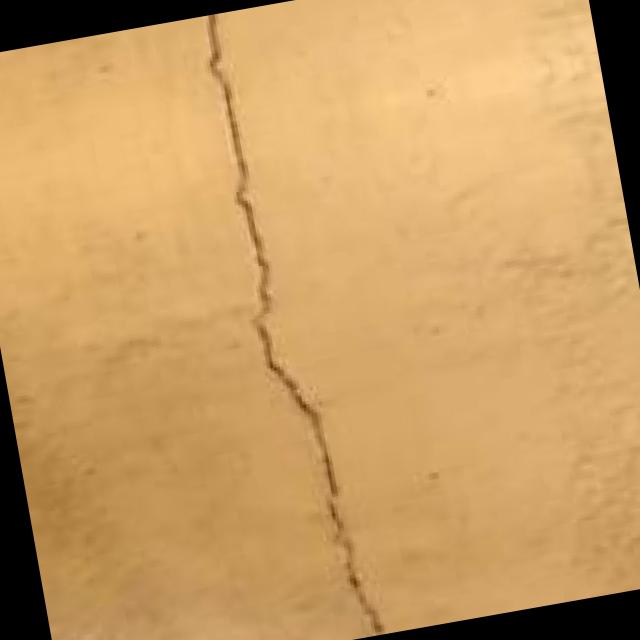crack: (122, 0, 444, 640)
